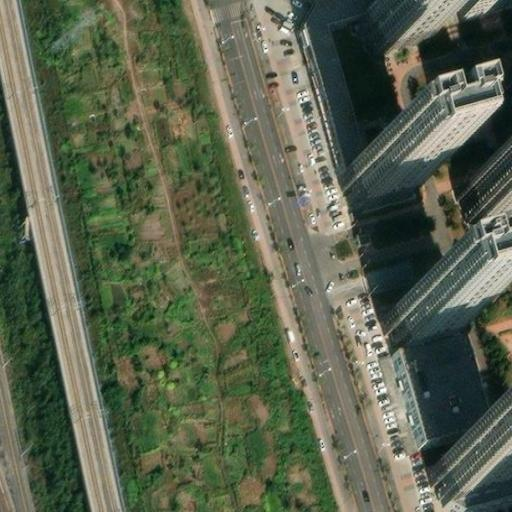building: (385, 321, 482, 436), (446, 173, 512, 238), (380, 282, 455, 338), (352, 136, 427, 191), (444, 442, 512, 500), (476, 459, 491, 469), (509, 464, 512, 474)
